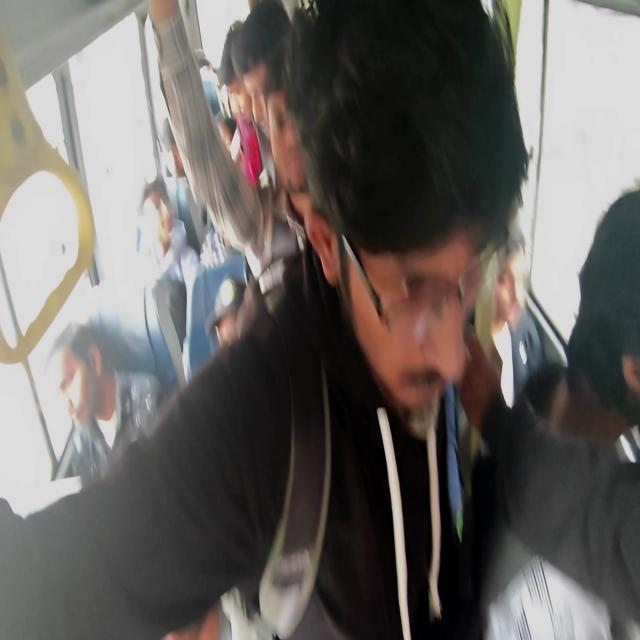person: (1, 0, 530, 638), (457, 186, 639, 638), (46, 279, 186, 485), (48, 319, 119, 487)
